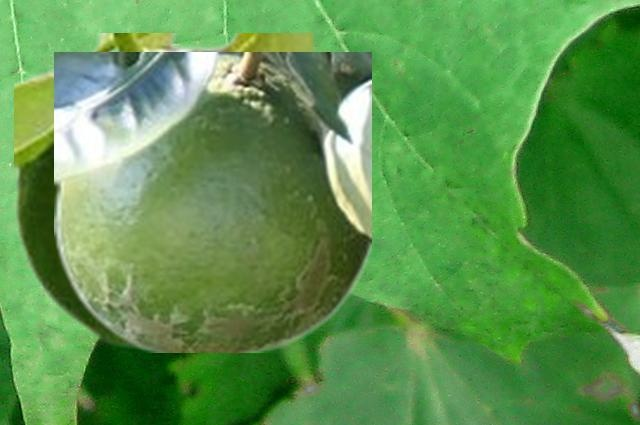dalandan: (54, 52, 370, 351), (14, 33, 311, 349)
